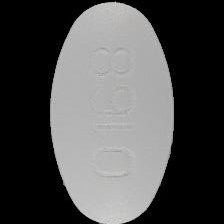0904-6287: (0, 0, 224, 224)
